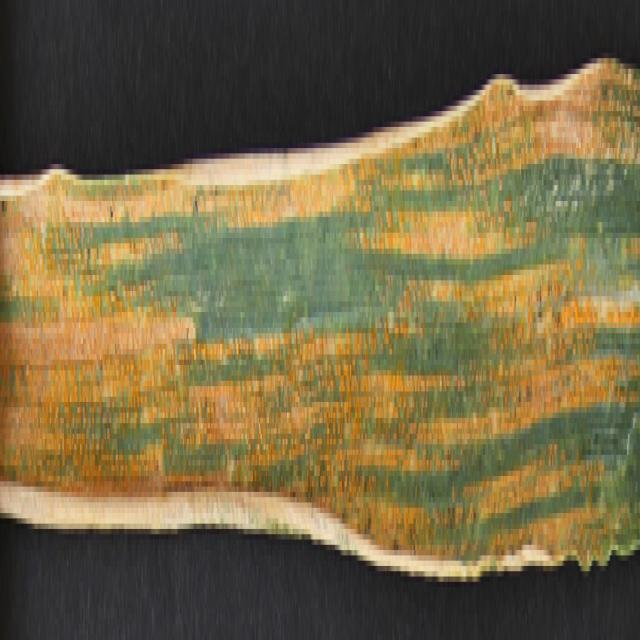leaf rust: (1, 48, 638, 587)
